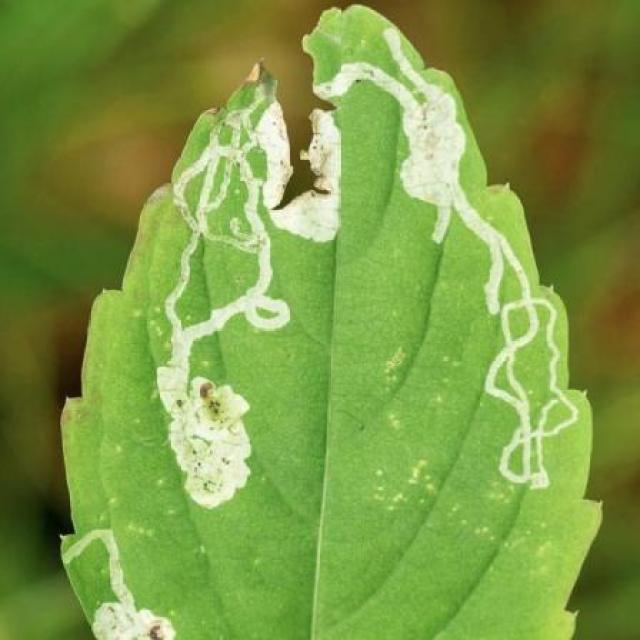Leaf Miner: (62, 0, 605, 640)
